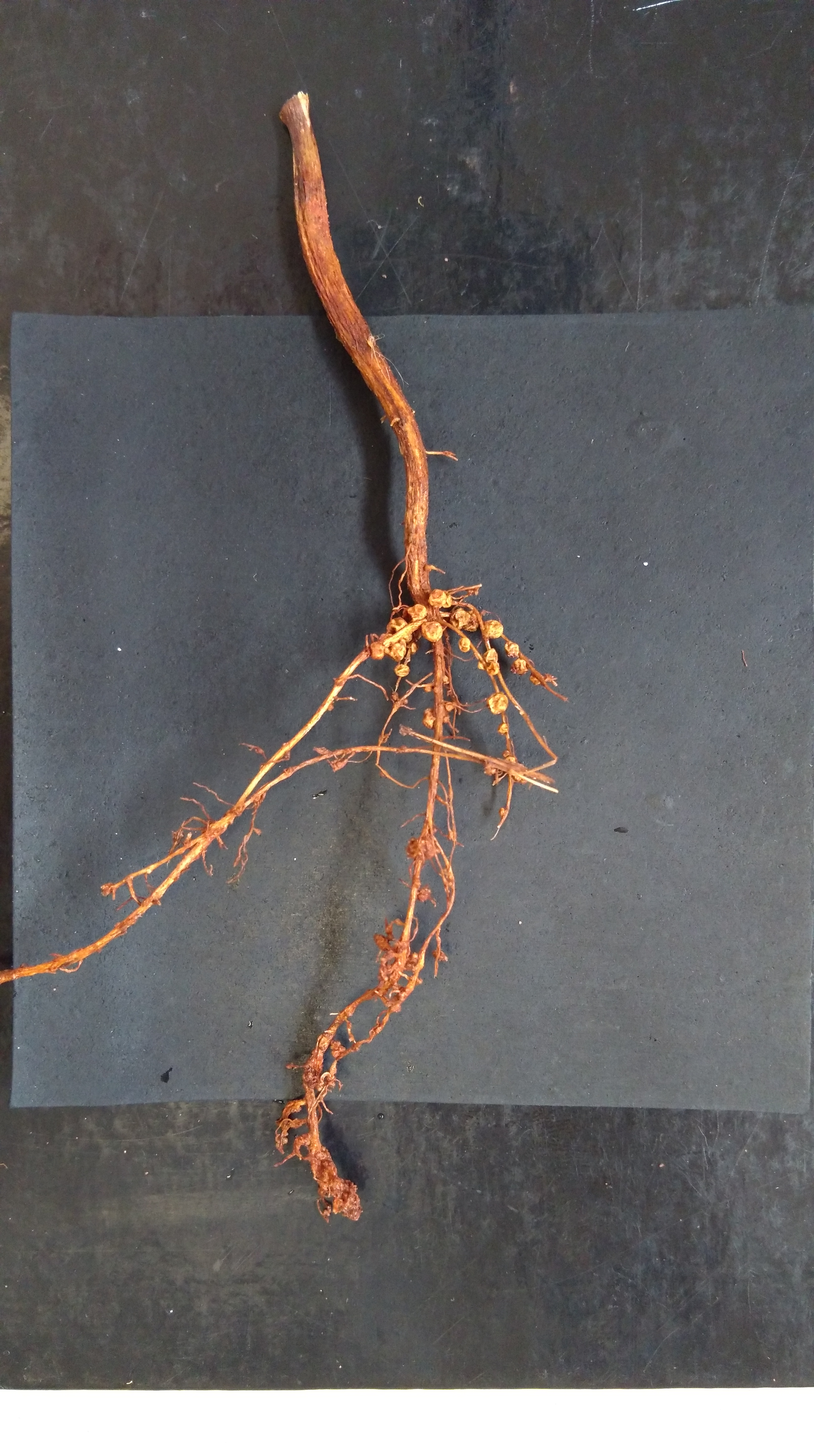nodule: (404, 834, 436, 861), (449, 607, 479, 633), (486, 691, 509, 716), (419, 621, 444, 643), (481, 619, 504, 640), (388, 638, 407, 662), (427, 588, 447, 609), (385, 616, 409, 633), (406, 603, 428, 621), (509, 657, 529, 676), (371, 932, 390, 951), (369, 640, 385, 661), (422, 707, 436, 730), (416, 883, 432, 903), (504, 641, 520, 659), (482, 647, 499, 663), (394, 663, 411, 678), (431, 948, 449, 962), (457, 637, 471, 654), (485, 662, 500, 676), (496, 721, 509, 735), (529, 672, 541, 686), (442, 593, 452, 609), (444, 701, 458, 711), (102, 882, 114, 892), (484, 767, 497, 776), (544, 672, 554, 683), (513, 770, 523, 781), (330, 1041, 341, 1050), (443, 711, 451, 723), (404, 632, 413, 642), (423, 563, 433, 572), (410, 642, 418, 653), (504, 756, 516, 763), (498, 807, 505, 818), (502, 749, 511, 757), (424, 685, 433, 693), (331, 1050, 340, 1058), (477, 661, 484, 671), (338, 1045, 346, 1053), (391, 692, 398, 701), (348, 1033, 354, 1042), (412, 952, 419, 959), (403, 698, 409, 705)
